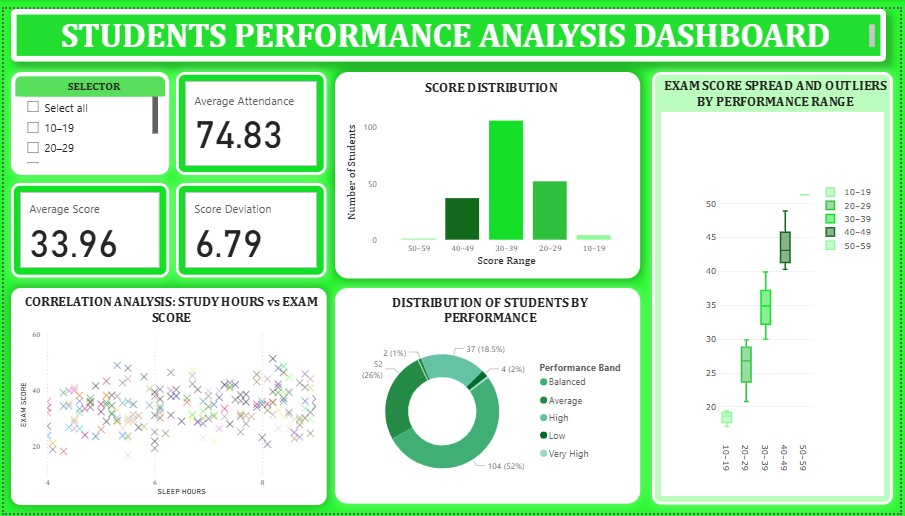

Layout of this report page (visuals, bound fields, positions):
{"tool":"powerbi","page":{"name":"Final Design of Student  Performance Analysis","canvas":[1280,720],"ordinal":1},"visuals":[{"type":"textbox","box":[10,8.3,1250,75],"z":0},{"type":"boxPloty6C987A9E682A4A859272BFEC966AF372","title":"EXAM SCORE SPREAD AND OUTLIERS BY PERFORMANCE RANGE","fields":{"measure":["student_exam_scores.EXAM SCORE"],"category":["student_exam_scores.Score Range"]},"box":[926.3,89.5,344.1,618],"z":1000},{"type":"lineStackedColumnComboChart","title":" SCORE DISTRIBUTION","fields":{"Category":["student_exam_scores.Score Range"],"Y":["CountNonNull(student_exam_scores.STUDENT ID)"]},"box":[473.5,89.5,436.3,294.5],"z":2000},{"type":"scatterChart","title":"CORRELATION ANALYSIS: STUDY HOURS vs EXAM SCORE","fields":{"X":["student_exam_scores.SLEEP HOURS"],"Y":["student_exam_scores.EXAM SCORE"]},"box":[9.6,399.1,451.4,309.7],"z":3000},{"type":"donutChart","title":"DISTRIBUTION OF STUDENTS BY PERFORMANCE","fields":{"Y":["CountNonNull(student_exam_scores.EXAM SCORE)"],"Category":["student_exam_scores.PerformanceBand"],"Series":["student_exam_scores.Score Range"]},"box":[473.5,399.1,436.3,308.3],"z":4000},{"type":"slicer","title":"SELECTOR","fields":{"Values":["student_exam_scores.Score Range"]},"box":[9.6,89.5,225.7,147.3],"z":5000},{"type":"cardVisual","fields":{"Data":["student_exam_scores.Average Score"]},"box":[9.6,249.1,225.7,134.9],"z":6000},{"type":"cardVisual","fields":{"Data":["student_exam_scores.Average Attendance"]},"box":[246.4,89.5,214.7,147.3],"z":7000},{"type":"cardVisual","fields":{"Data":["student_exam_scores.Score Std Dev"]},"box":[246.4,249.1,214.7,134.9],"z":8000}]}

Visuals, with their boxes in screenshot pixels (x1, y1, x2, y2), scaled from the page's 1280x720 canvas onto the 905x516 screenshot:
textbox: l=7, t=6, r=891, b=60
"EXAM SCORE SPREAD AND OUTLIERS BY PERFORMANCE RANGE" boxPloty6C987A9E682A4A859272BFEC966AF372: l=655, t=64, r=898, b=507
" SCORE DISTRIBUTION" lineStackedColumnComboChart: l=335, t=64, r=643, b=275
"CORRELATION ANALYSIS: STUDY HOURS vs EXAM SCORE" scatterChart: l=7, t=286, r=326, b=508
"DISTRIBUTION OF STUDENTS BY PERFORMANCE" donutChart: l=335, t=286, r=643, b=507
"SELECTOR" slicer: l=7, t=64, r=166, b=170
cardVisual - student_exam_scores.Average Score: l=7, t=179, r=166, b=275
cardVisual - student_exam_scores.Average Attendance: l=174, t=64, r=326, b=170
cardVisual - student_exam_scores.Score Std Dev: l=174, t=179, r=326, b=275
